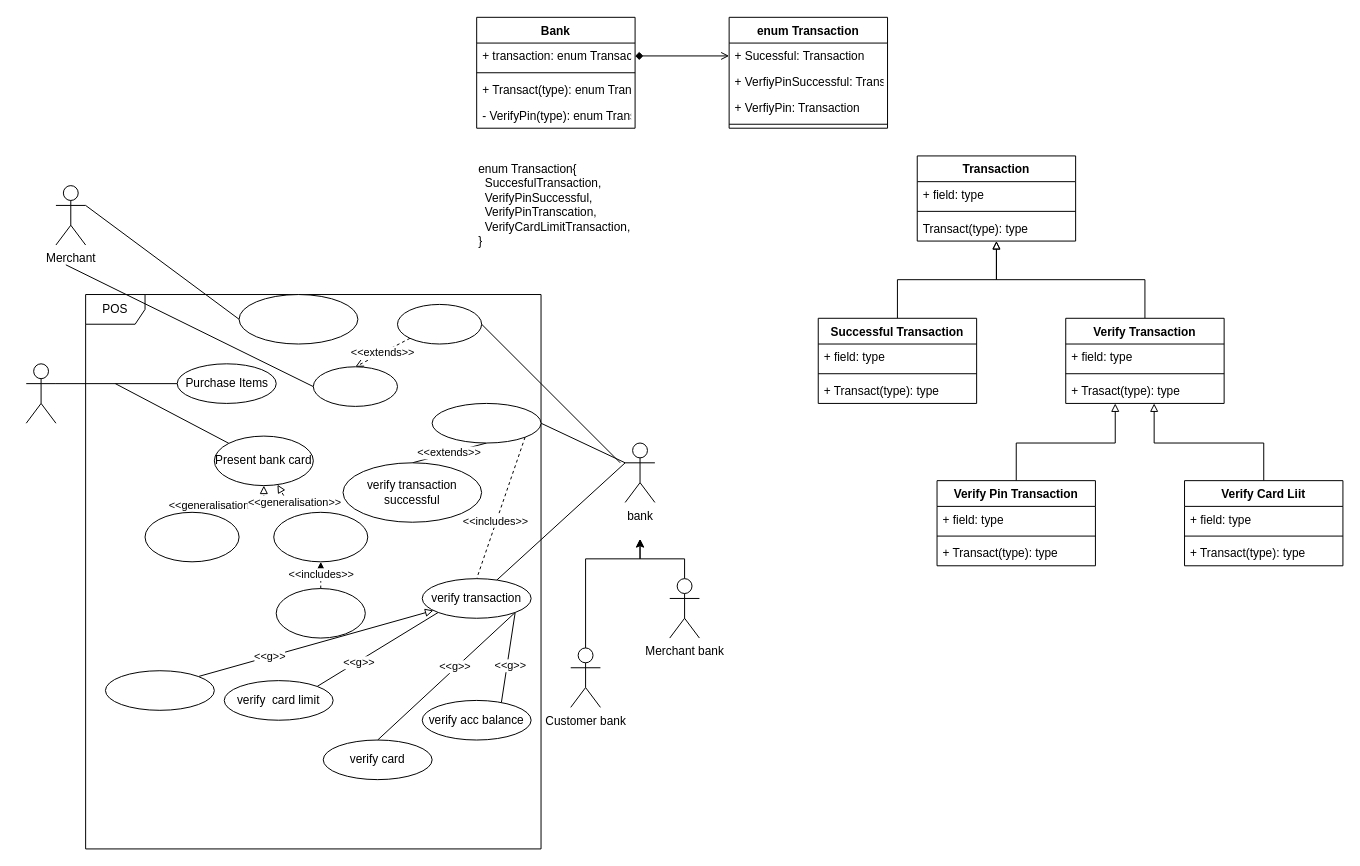
Image size: 1360x866. Some labels were removed from this diagram. The shapes that lost their labels are listed below. From the top down, each one's centre as x and y in pixels, then its label:
At (x=298, y=319): "Enter amount".
At (x=439, y=323): "generate".
At (x=40, y=393): "customer".
At (x=354, y=386): "issue receipt".
At (x=486, y=422): "make transaction".
At (x=191, y=536): "contactless".
At (x=320, y=536): "Contact card".
At (x=320, y=613): "Enter Pin".
At (x=159, y=690): "verify pin".
